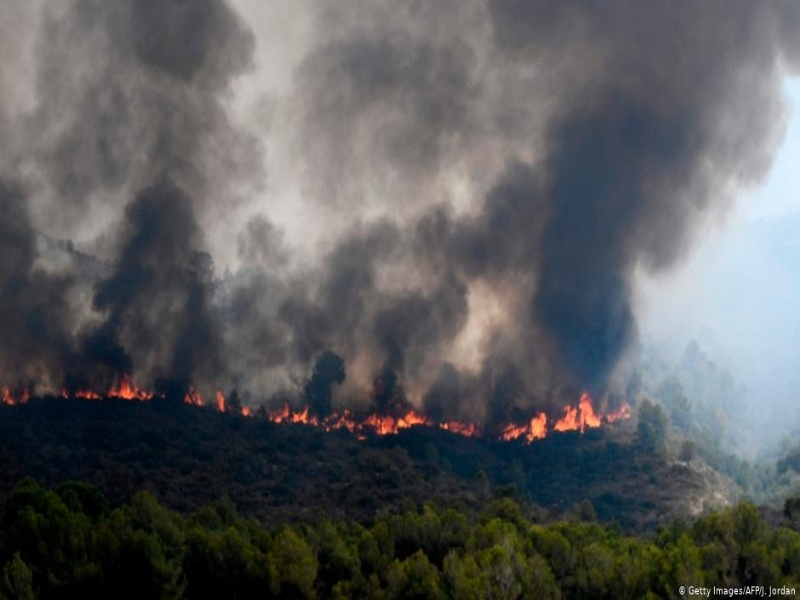smoke: (2, 1, 640, 354)
